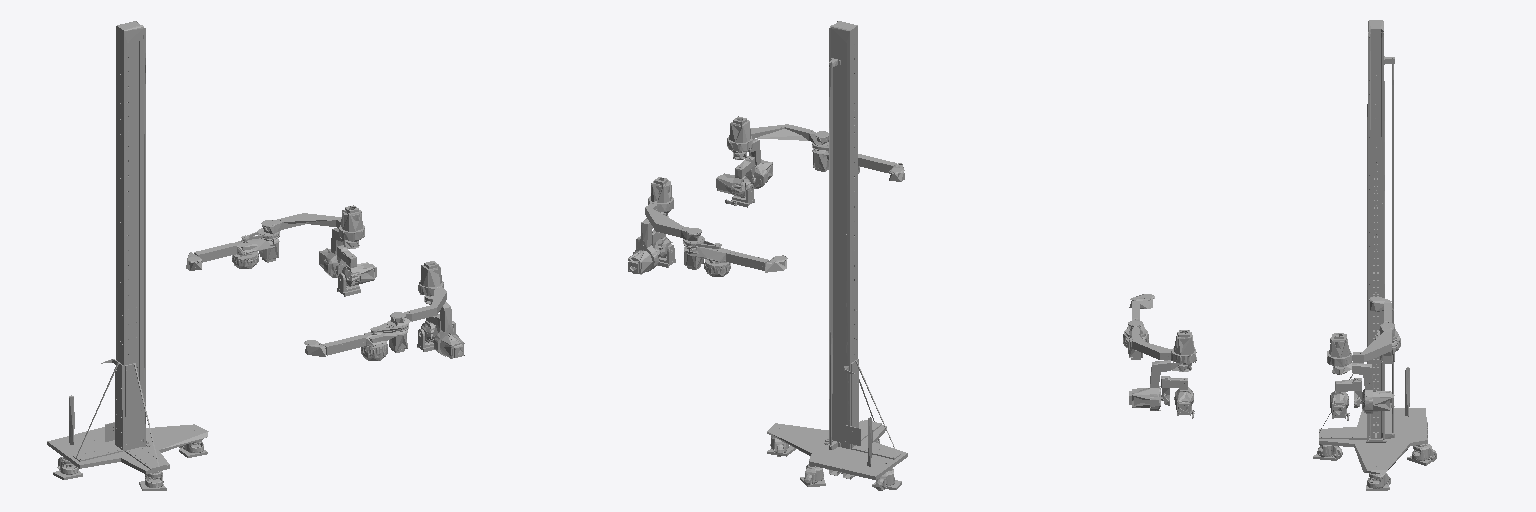
URDF robot description (dyros_avatar_haptic):
<?xml version="1.0" ?>
<robot name="dyros_avatar_haptic">

<mujoco>
      <compiler 
      meshdir="../meshes/" 
      balanceinertia="true" 
      discardvisual="false" />
</mujoco>

<material name="silver">
  <color rgba="0.700 0.700 0.700 1.000"/>
</material>

<link name="base_link">
</link>

<!-- RIGHT -->
<joint name="base_footprint_joint_right" type="fixed">
  <origin rpy="0 0 0" xyz="0 -0.5 0.0"/>
  <parent link="base_link"/>
  <child link="R0v2_1"/>
</joint>

<link name="R0v2_1">
  <inertial>
    <origin xyz="-0.022028950404034714 0.05827830226084305 0.44607097962097164" rpy="0 0 0"/>
    <mass value="54.47494543793283"/>
    <inertia ixx="17.852652" iyy="18.178648" izz="1.124692" ixy="-0.098729" iyz="-0.067986" ixz="-0.126587"/>
  </inertial>
  <visual>
    <origin xyz="0 0 0" rpy="0 0 0"/>
    <geometry>
      <mesh filename="package://dyros_avatar_haptic_description/meshes/R0v2_1_reduced.stl" scale="0.001 0.001 0.001"/>
    </geometry>
    <material name="silver"/>
  </visual>
  <collision>
    <origin xyz="0 0 0" rpy="0 0 0"/>
    <geometry>
      <mesh filename="package://dyros_avatar_haptic_description/meshes/R0v2_1_reduced.stl" scale="0.001 0.001 0.001"/>
    </geometry>
  </collision>
</link>

<link name="R1v2_1">
  <inertial>
    <origin xyz="0.07174869274231475 0.05748257241792944 0.10425487387661309" rpy="0 0 0"/>
    <mass value="9.600608608246226"/>
    <inertia ixx="0.167071" iyy="0.229357" izz="0.083369" ixy="-0.006156" iyz="-0.006963" ixz="-0.072231"/>
  </inertial>
  <visual>
    <origin xyz="3.819167204710538e-16 -1.521005543736465e-16 -0.4787000000000002" rpy="0 0 0"/>
    <geometry>
      <mesh filename="package://dyros_avatar_haptic_description/meshes/R1v2_1_reduced.stl" scale="0.001 0.001 0.001"/>
    </geometry>
    <material name="silver"/>
  </visual>
  <collision>
    <origin xyz="3.819167204710538e-16 -1.521005543736465e-16 -0.4787000000000002" rpy="0 0 0"/>
    <geometry>
      <mesh filename="package://dyros_avatar_haptic_description/meshes/R1v2_1_reduced.stl" scale="0.001 0.001 0.001"/>
    </geometry>
  </collision>
</link>

<link name="R2v2_1">
  <inertial>
    <origin xyz="0.23666810313412606 -0.04191195106523485 0.0027708705562773384" rpy="0 0 0"/>
    <mass value="3.481861325153536"/>
    <inertia ixx="0.005047" iyy="0.04114" izz="0.040168" ixy="0.002548" iyz="-0.000176" ixz="-9.5e-05"/>
  </inertial>
  <visual>
    <origin xyz="-0.2585480454957069 -0.06403943059620669 -0.7655000000000011" rpy="0 0 0"/>
    <geometry>
      <mesh filename="package://dyros_avatar_haptic_description/meshes/R2_Newv6_1_reduced.stl" scale="0.001 0.001 0.001"/>
    </geometry>
    <material name="silver"/>
  </visual>
  <collision>
    <origin xyz="-0.2585480454957069 -0.06403943059620669 -0.7655000000000011" rpy="0 0 0"/>
    <geometry>
      <mesh filename="package://dyros_avatar_haptic_description/meshes/R2_Newv6_1_reduced.stl" scale="0.001 0.001 0.001"/>
    </geometry>
  </collision>
</link>

<link name="R3v2_1">
  <inertial>
    <origin xyz="0.20360178786026029 0.12681566846597345 0.02265817176339935" rpy="0 0 0"/>
    <mass value="2.298579454210347"/>
    <inertia ixx="0.01698" iyy="0.017649" izz="0.031725" ixy="-0.013132" iyz="-0.000459" ixz="-0.00049"/>
  </inertial>
  <visual>
    <origin xyz="-0.6055374936299631 -0.018958138650613392 -0.8200000000000008" rpy="0 0 0"/>
    <geometry>
      <mesh filename="package://dyros_avatar_haptic_description/meshes/R3_Newv2_1_reduced.stl" scale="0.001 0.001 0.001"/>
    </geometry>
    <material name="silver"/>
  </visual>
  <collision>
    <origin xyz="-0.6055374936299631 -0.018958138650613392 -0.8200000000000008" rpy="0 0 0"/>
    <geometry>
      <mesh filename="package://dyros_avatar_haptic_description/meshes/R3_Newv2_1_reduced.stl" scale="0.001 0.001 0.001"/>
    </geometry>
  </collision>
</link>

<link name="R4v1_1">
  <inertial>
    <origin xyz="0.010907562973638263 -0.12775745213700443 -0.3772608174559408" rpy="0 0 0"/>
    <mass value="2.6616567255115777"/>
    <inertia ixx="0.572958" iyy="0.565444" izz="0.011321" ixy="0.001865" iyz="-0.049907" ixz="0.023194"/>
  </inertial>
  <visual>
    <origin xyz="-0.8553406094124334 -0.20418452269287354 -0.8097000000000013" rpy="0 0 0"/>
    <geometry>
      <mesh filename="package://dyros_avatar_haptic_description/meshes/R4v1_1_reduced.stl" scale="0.001 0.001 0.001"/>
    </geometry>
    <material name="silver"/>
  </visual>
  <collision>
    <origin xyz="-0.8553406094124334 -0.20418452269287354 -0.8097000000000013" rpy="0 0 0"/>
    <geometry>
      <mesh filename="package://dyros_avatar_haptic_description/meshes/R4v1_1_reduced.stl" scale="0.001 0.001 0.001"/>
    </geometry>
  </collision>
</link>

<link name="R5v3_1">
  <inertial>
    <origin xyz="0.0034782066716875226 0.07181457569529952 0.012391219361348793" rpy="0 0 0"/>
    <mass value="1.6499764908897157"/>
    <inertia ixx="0.003237" iyy="0.00299" izz="0.003256" ixy="-8.6e-05" iyz="0.000531" ixz="8e-05"/>
  </inertial>
  <visual>
    <origin xyz="-0.8552444280602497 -0.11640957538928683 -0.6536250000000011" rpy="0 0 0"/>
    <geometry>
      <mesh filename="package://dyros_avatar_haptic_description/meshes/R5v3_1_reduced.stl" scale="0.001 0.001 0.001"/>
    </geometry>
    <material name="silver"/>
  </visual>
  <collision>
    <origin xyz="-0.8552444280602497 -0.11640957538928683 -0.6536250000000011" rpy="0 0 0"/>
    <geometry>
      <mesh filename="package://dyros_avatar_haptic_description/meshes/R5v3_1_reduced.stl" scale="0.001 0.001 0.001"/>
    </geometry>
  </collision>
</link>

<link name="R6v1_1">
  <inertial>
    <origin xyz="0.026599124986693923 0.00616031430711475 -0.04537670815321748" rpy="0 0 0"/>
    <mass value="0.29003290841142326"/>
    <inertia ixx="0.000186" iyy="0.000297" izz="0.000306" ixy="-6.2e-05" iyz="2.1e-05" ixz="7.4e-05"/>
  </inertial>
  <visual>
    <origin xyz="-0.8173400021573647 -0.20365116235887956 -0.6536249999999967" rpy="0 0 0"/>
    <geometry>
      <mesh filename="package://dyros_avatar_haptic_description/meshes/R6v1_1.stl" scale="0.001 0.001 0.001"/>
    </geometry>
    <material name="silver"/>
  </visual>
  <collision>
    <origin xyz="-0.8173400021573647 -0.20365116235887956 -0.6536249999999967" rpy="0 0 0"/>
    <geometry>
      <mesh filename="package://dyros_avatar_haptic_description/meshes/R6v1_1.stl" scale="0.001 0.001 0.001"/>
    </geometry>
  </collision>
</link>

<!-- LEFT -->
<joint name="base_footprint_joint_left" type="fixed">
  <origin rpy="0 0 0" xyz="0 0.5 0"/>
  <parent link="base_link"/>
  <child link="L0v1_1"/>
</joint>

<link name="L0v1_1">
  <inertial>
    <origin xyz="-0.05397161611301562 -0.036321160852863264 0.46986294658671396" rpy="0 0 0"/>
    <mass value="83.96706134148887"/>
    <inertia ixx="24.453447" iyy="25.002911" izz="1.749241" ixy="0.350866" iyz="0.742595" ixz="-1.055886"/>
  </inertial>
  <visual>
    <origin xyz="0 0 0" rpy="0 0 0"/>
    <geometry>
      <mesh filename="package://dyros_avatar_haptic_description/meshes/L0v1_1_reduced.stl" scale="0.001 0.001 0.001"/>
    </geometry>
    <material name="silver"/>
  </visual>
  <collision>
    <origin xyz="0 0 0" rpy="0 0 0"/>
    <geometry>
      <mesh filename="package://dyros_avatar_haptic_description/meshes/L0v1_1_reduced.stl" scale="0.001 0.001 0.001"/>
    </geometry>
  </collision>
</link>

<link name="L1v4_1">
  <inertial>
    <origin xyz="0.07414968503896087 -0.057367037851181454 0.1044503172259923" rpy="0 0 0"/>
    <mass value="9.311307466586474"/>
    <inertia ixx="0.150532" iyy="0.213922" izz="0.0834" ixy="0.006379" iyz="0.007141" ixz="-0.068315"/>
  </inertial>
  <visual>
    <origin xyz="3.0000000002416984e-06 -1.509903313490213e-16 -0.478700000000001" rpy="0 0 0"/>
    <geometry>
      <mesh filename="package://dyros_avatar_haptic_description/meshes/L1v4_1_reduced.stl" scale="0.001 0.001 0.001"/>
    </geometry>
    <material name="silver"/>
  </visual>
  <collision>
    <origin xyz="3.0000000002416984e-06 -1.509903313490213e-16 -0.478700000000001" rpy="0 0 0"/>
    <geometry>
      <mesh filename="package://dyros_avatar_haptic_description/meshes/L1v4_1_reduced.stl" scale="0.001 0.001 0.001"/>
    </geometry>
  </collision>
</link>

<link name="L2v2_1">
  <inertial>
    <origin xyz="0.24316316198770976 0.042142326269775716 0.003159068382556529" rpy="0 0 0"/>
    <mass value="3.6056700794408694"/>
    <inertia ixx="0.005209" iyy="0.041973" izz="0.040938" ixy="-0.002441" iyz="0.000154" ixz="-0.000307"/>
  </inertial>
  <visual>
    <origin xyz="-0.25846673727088915 0.0642219192730756 -0.7550000000000004" rpy="0 0 0"/>
    <geometry>
      <mesh filename="package://dyros_avatar_haptic_description/meshes/L2_Newv4_1_reduced.stl" scale="0.001 0.001 0.001"/>
    </geometry>
    <material name="silver"/>
  </visual>
  <collision>
    <origin xyz="-0.25846673727088915 0.0642219192730756 -0.7550000000000004" rpy="0 0 0"/>
    <geometry>
      <mesh filename="package://dyros_avatar_haptic_description/meshes/L2_Newv4_1_reduced.stl" scale="0.001 0.001 0.001"/>
    </geometry>
  </collision>
</link>

<link name="L3v2_1">
  <inertial>
    <origin xyz="0.20448824109939912 -0.1276110108524803 0.020663262416985573" rpy="0 0 0"/>
    <mass value="2.262098039986338"/>
    <inertia ixx="0.016693" iyy="0.016936" izz="0.030628" ixy="0.012648" iyz="0.000918" ixz="-0.000652"/>
  </inertial>
  <visual>
    <origin xyz="-0.6055829237607285 0.0193856381856442 -0.8095000000000006" rpy="0 0 0"/>
    <geometry>
      <mesh filename="package://dyros_avatar_haptic_description/meshes/L3_Newv3_1_reduced.stl" scale="0.001 0.001 0.001"/>
    </geometry>
    <material name="silver"/>
  </visual>
  <collision>
    <origin xyz="-0.6055829237607285 0.0193856381856442 -0.8095000000000006" rpy="0 0 0"/>
    <geometry>
      <mesh filename="package://dyros_avatar_haptic_description/meshes/L3_Newv3_1_reduced.stl" scale="0.001 0.001 0.001"/>
    </geometry>
  </collision>
</link>

<link name="L4v5_1">
  <inertial>
    <origin xyz="0.07269274062841957 0.17106995394703692 -0.33156342884810547" rpy="0 0 0"/>
    <mass value="2.6616567255115777"/>
    <inertia ixx="0.427739" iyy="0.432239" izz="0.083245" ixy="-0.037928" iyz="0.117121" ixz="0.125705"/>
  </inertial>
  <visual>
    <origin xyz="-0.8550954014206132 0.20500334610174079 -0.7992" rpy="0 0 0"/>
    <geometry>
      <mesh filename="package://dyros_avatar_haptic_description/meshes/L4v5_1_reduced.stl" scale="0.001 0.001 0.001"/>
    </geometry>
    <material name="silver"/>
  </visual>
  <collision>
    <origin xyz="-0.8550954014206132 0.20500334610174079 -0.7992" rpy="0 0 0"/>
    <geometry>
      <mesh filename="package://dyros_avatar_haptic_description/meshes/L4v5_1_reduced.stl" scale="0.001 0.001 0.001"/>
    </geometry>
  </collision>
</link>

<link name="L5v6_1">
  <inertial>
    <origin xyz="0.003958522212349602 -0.0718400882483142 0.012391219361366779" rpy="0 0 0"/>
    <mass value="1.6499764908897157"/>
    <inertia ixx="0.003238" iyy="0.002993" izz="0.003259" ixy="0.000102" iyz="-0.000531" ixz="8.8e-05"/>
  </inertial>
  <visual>
    <origin xyz="-0.8551368021558099 0.11722835586546054 -0.6431250000000004" rpy="0 0 0"/>
    <geometry>
      <mesh filename="package://dyros_avatar_haptic_description/meshes/L5v6_1_reduced.stl" scale="0.001 0.001 0.001"/>
    </geometry>
    <material name="silver"/>
  </visual>
  <collision>
    <origin xyz="-0.8551368021558099 0.11722835586546054 -0.6431250000000004" rpy="0 0 0"/>
    <geometry>
      <mesh filename="package://dyros_avatar_haptic_description/meshes/L5v6_1_reduced.stl" scale="0.001 0.001 0.001"/>
    </geometry>
  </collision>
</link>

<link name="L6v5_1">
  <inertial>
    <origin xyz="0.026595275136558016 0.006176913698148073 -0.04537670815316974" rpy="0 0 0"/>
    <mass value="0.29003290841142326"/>
    <inertia ixx="0.000186" iyy="0.000297" izz="0.000306" ixy="-6.2e-05" iyz="2.1e-05" ixz="7.3e-05"/>
  </inertial>
  <visual>
    <origin xyz="-0.8178956767681897 0.20441080008368115 -0.6431250000000176" rpy="0 0 0"/>
    <geometry>
      <mesh filename="package://dyros_avatar_haptic_description/meshes/L6v5_1.stl" scale="0.001 0.001 0.001"/>
    </geometry>
    <material name="silver"/>
  </visual>
  <collision>
    <origin xyz="-0.8178956767681897 0.20441080008368115 -0.6431250000000176" rpy="0 0 0"/>
    <geometry>
      <mesh filename="package://dyros_avatar_haptic_description/meshes/L6v5_1.stl" scale="0.001 0.001 0.001"/>
    </geometry>
  </collision>
</link>


<joint name="R_Rev1" type="prismatic">
  <origin xyz="-3.819167204710538e-16 1.521005543736465e-16 0.4787000000000002" rpy="0 0 0"/>
  <parent link="R0v2_1"/>
  <child link="R1v2_1"/>
  <axis xyz="1.1102230246251642e-16 -3.052485909729872e-16 1.0000000000000018"/>
  <limit upper="3.14159" lower="-3.14159" effort="100" velocity="100"/>
</joint>

<joint name="R_Rev2" type="revolute">
  <origin xyz="0.2585480454957073 0.06403943059620654 0.2868000000000009" rpy="0 0 0"/>
  <parent link="R1v2_1"/>
  <child link="R2v2_1"/>
  <axis xyz="0.0 0.0 -1.0"/>
  <limit upper="3.14159" lower="-3.14159" effort="100" velocity="100"/>
</joint>

<joint name="R_Rev3" type="revolute">
  <origin xyz="0.3469894481342562 -0.045081291945593294 0.05449999999999977" rpy="0 0 0"/>
  <parent link="R2v2_1"/>
  <child link="R3v2_1"/>
  <axis xyz="0.0 0.0 -1.0"/>
  <limit upper="3.14159" lower="-3.14159" effort="100" velocity="100"/>
</joint>

<joint name="R_Rev4" type="revolute">
  <origin xyz="0.24980311578247028 0.18522638404226016 -0.010299999999999532" rpy="0 0 0"/>
  <parent link="R3v2_1"/>
  <child link="R4v1_1"/>
  <axis xyz="0.0 0.0 1.0"/>
  <limit upper="3.14159" lower="-3.14159" effort="100" velocity="100"/>
</joint>

<joint name="R_Rev5" type="revolute">
  <origin xyz="-9.618135218369961e-05 -0.08777494730358672 -0.15607500000000019" rpy="0 0 0"/>
  <parent link="R4v1_1"/>
  <child link="R5v3_1"/>
  <axis xyz="0.0010957715999700898 -0.9999993996421189 7.640945265029723e-16"/>
  <limit upper="3.14159" lower="-3.14159" effort="100" velocity="100"/>
</joint>

<joint name="R_Rev6" type="revolute">
  <origin xyz="-0.03790442590288501 0.08724158696959274 -4.440892098500626e-15" rpy="0 0 0"/>
  <parent link="R5v3_1"/>
  <child link="R6v1_1"/>
  <axis xyz="0.9999993996421241 -0.0010957715999707956 1.2327063634757942e-14"/>
  <limit upper="3.14159" lower="-3.14159" effort="100" velocity="100"/>
</joint>


<joint name="L_Rev1" type="prismatic">
  <origin xyz="-3.0000000002416984e-06 1.509903313490213e-16 0.478700000000001" rpy="0 0 0"/>
  <parent link="L0v1_1"/>
  <child link="L1v4_1"/>
  <axis xyz="0.0 0.0 1.0"/>
  <limit upper="3.14159" lower="-3.14159" effort="100" velocity="100"/>
</joint>

<joint name="L_Rev2" type="revolute">
  <origin xyz="0.2584697372708894 -0.06422191927307576 0.27629999999999943" rpy="0 0 0"/>
  <parent link="L1v4_1"/>
  <child link="L2v2_1"/>
  <axis xyz="0.0 0.0 -1.0"/>
  <limit upper="3.14159" lower="-3.14159" effort="100" velocity="100"/>
</joint>

<joint name="L_Rev3" type="revolute">
  <origin xyz="0.3471161864898394 0.0448362810874314 0.054500000000000104" rpy="0 0 0"/>
  <parent link="L2v2_1"/>
  <child link="L3v2_1"/>
  <axis xyz="0.0 0.0 -1.0"/>
  <limit upper="3.14159" lower="-3.14159" effort="100" velocity="100"/>
</joint>

<joint name="L_Rev4" type="revolute">
  <origin xyz="0.2495124776598847 -0.18561770791609658 -0.010300000000000531" rpy="0 0 0"/>
  <parent link="L3v2_1"/>
  <child link="L4v5_1"/>
  <axis xyz="0.0 0.0 1.0"/>
  <limit upper="3.14159" lower="-3.14159" effort="100" velocity="100"/>
</joint>

<joint name="L_Rev5" type="revolute">
  <origin xyz="4.140073519665055e-05 0.08777499023628024 -0.15607499999999963" rpy="0 0 0"/>
  <parent link="L4v5_1"/>
  <child link="L5v6_1"/>
  <axis xyz="0.0 1.0 0.0"/>
  <limit upper="3.14159" lower="-3.14159" effort="100" velocity="100"/>
</joint>

<joint name="L_Rev6" type="revolute">
  <origin xyz="-0.037241125387620144 -0.0871824442182206 1.7208456881689926e-14" rpy="0 0 0"/>
  <parent link="L5v6_1"/>
  <child link="L6v5_1"/>
  <axis xyz="1.0 0.0 0.0"/>
  <limit upper="3.14159" lower="-3.14159" effort="100" velocity="100"/>
</joint>


</robot>

--- Render facts (derived) ---
Views: 3 orthographic renders of the robot side by side, from view 1: azimuth 30°, elevation 25°; view 2: azimuth 150°, elevation 25°; view 3: azimuth 270°, elevation 25°.
Robot: dyros_avatar_haptic — 15 links, 14 joints (10 revolute, 2 prismatic, 2 fixed); root link base_link; default pose: all joints at 0.
Links seen in each view (by area): view 1: L0v1_1, R2v2_1, L2v2_1, L3v2_1, R3v2_1, R4v1_1, L5v6_1, L4v5_1; view 2: L0v1_1, L2v2_1, R3v2_1, L3v2_1, R2v2_1, L4v5_1, R5v3_1, R4v1_1; view 3: L0v1_1, L3v2_1, R3v2_1, L4v5_1, R4v1_1, L5v6_1, R5v3_1, R2v2_1, L2v2_1.
Boxes of the visible links, left/top/right/bottom form: L0v1_1: left=47, top=21, right=208, bottom=490; R2v2_1: left=304, top=320, right=408, bottom=360; L2v2_1: left=186, top=228, right=279, bottom=270; L3v2_1: left=261, top=205, right=364, bottom=241; R3v2_1: left=390, top=261, right=446, bottom=325; R4v1_1: left=424, top=296, right=464, bottom=358; L5v6_1: left=335, top=245, right=376, bottom=286; L4v5_1: left=319, top=228, right=359, bottom=277; L0v1_1: left=767, top=21, right=907, bottom=490; L2v2_1: left=683, top=235, right=787, bottom=276; R3v2_1: left=727, top=116, right=828, bottom=152; L3v2_1: left=645, top=177, right=701, bottom=240; R2v2_1: left=812, top=142, right=904, bottom=181; L4v5_1: left=628, top=212, right=668, bottom=274; R5v3_1: left=716, top=156, right=755, bottom=197; R4v1_1: left=733, top=139, right=772, bottom=188; L0v1_1: left=1313, top=20, right=1436, bottom=490; L3v2_1: left=1327, top=323, right=1394, bottom=367; R3v2_1: left=1128, top=320, right=1196, bottom=365; L4v5_1: left=1332, top=362, right=1394, bottom=413; R4v1_1: left=1129, top=360, right=1191, bottom=410; L5v6_1: left=1330, top=378, right=1361, bottom=416; R5v3_1: left=1161, top=376, right=1193, bottom=413; R2v2_1: left=1123, top=294, right=1154, bottom=359; L2v2_1: left=1369, top=296, right=1400, bottom=363.
Bounding box of the posed robot: 1.25 × 1.2 × 1.83 m (x, y, z).
11 mesh visuals loaded from 14 distinct referenced files (11 binary STL); not drawn: 3 (reference not matched to a file when rendering).